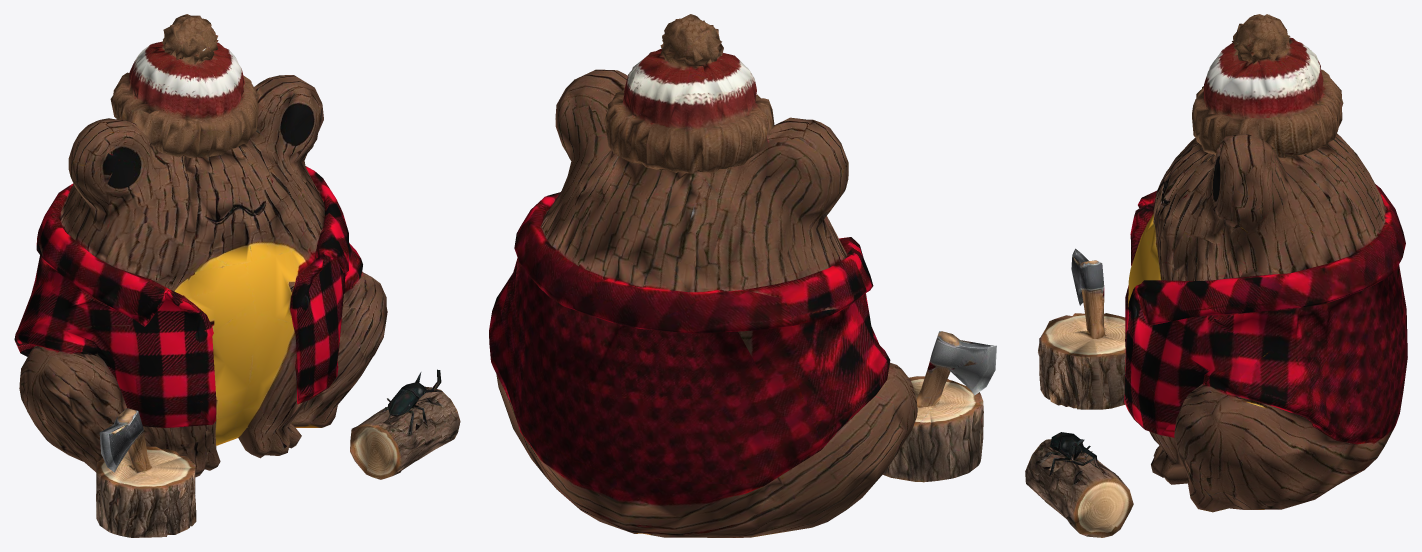
Rendered from bucheronne.glb.
3 renders of one model, left to right at view 1: azimuth 30°, elevation 25°; view 2: azimuth 150°, elevation 25°; view 3: azimuth 270°, elevation 25°, orthographic. The views are drawn at different scales.
Visible parts, largest first — view 1: mesh_node; view 2: mesh_node; view 3: mesh_node.
Part boxes in pixels (bbox=[...]): mesh_node: bbox=[14, 14, 460, 537]; mesh_node: bbox=[489, 14, 996, 537]; mesh_node: bbox=[1025, 14, 1407, 537].
Size of the model in its own units: 1.74 by 1.9 by 1.51.
Materials: 1 (1 with a texture image).
